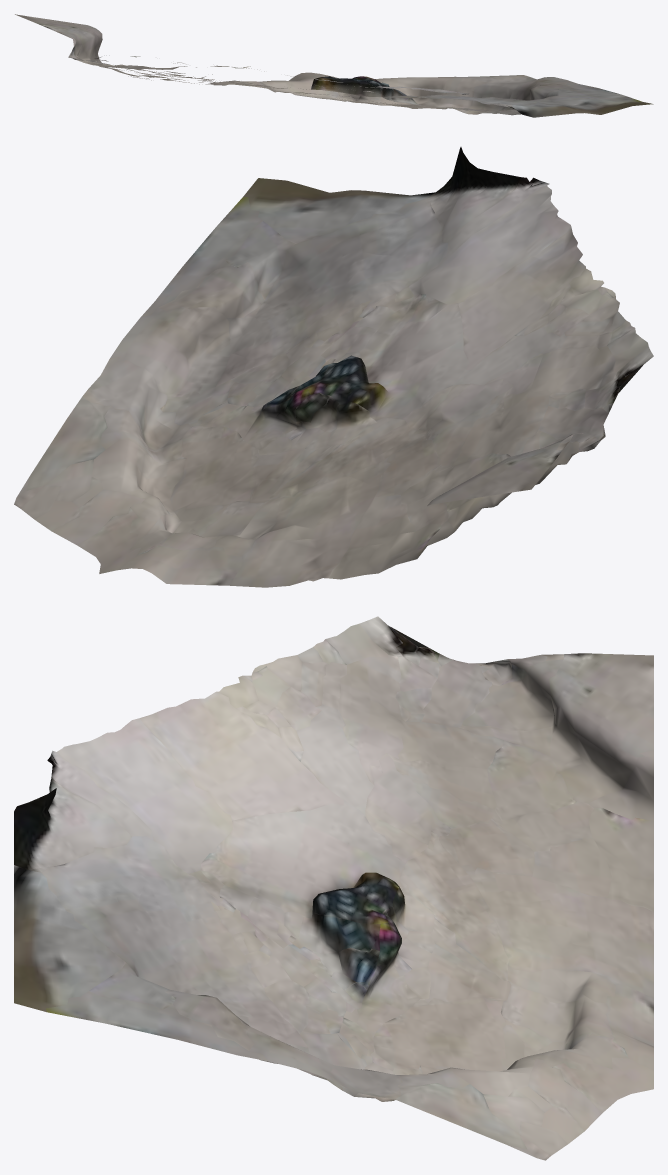
File: hall.glb
The picture shows the model from 3 angles, top to bottom: view 1: azimuth 30°, elevation 25°; view 2: azimuth 150°, elevation 25°; view 3: azimuth 270°, elevation 25°; orthographic projection. The views are drawn at different scales.
Bounding box in the file's own units: 1.6 × 0.6127 × 1.44.
Materials: 1 (1 with a texture image).
